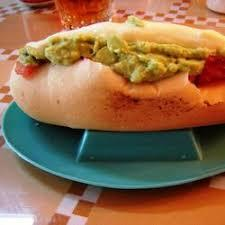Completos: (11, 11, 225, 127)
